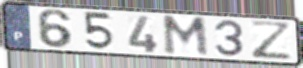3: (212, 18, 245, 58)
4: (126, 13, 161, 55)
5: (83, 10, 116, 52)
6: (36, 8, 75, 50)
M: (160, 14, 211, 58)
Z: (248, 19, 295, 61)
